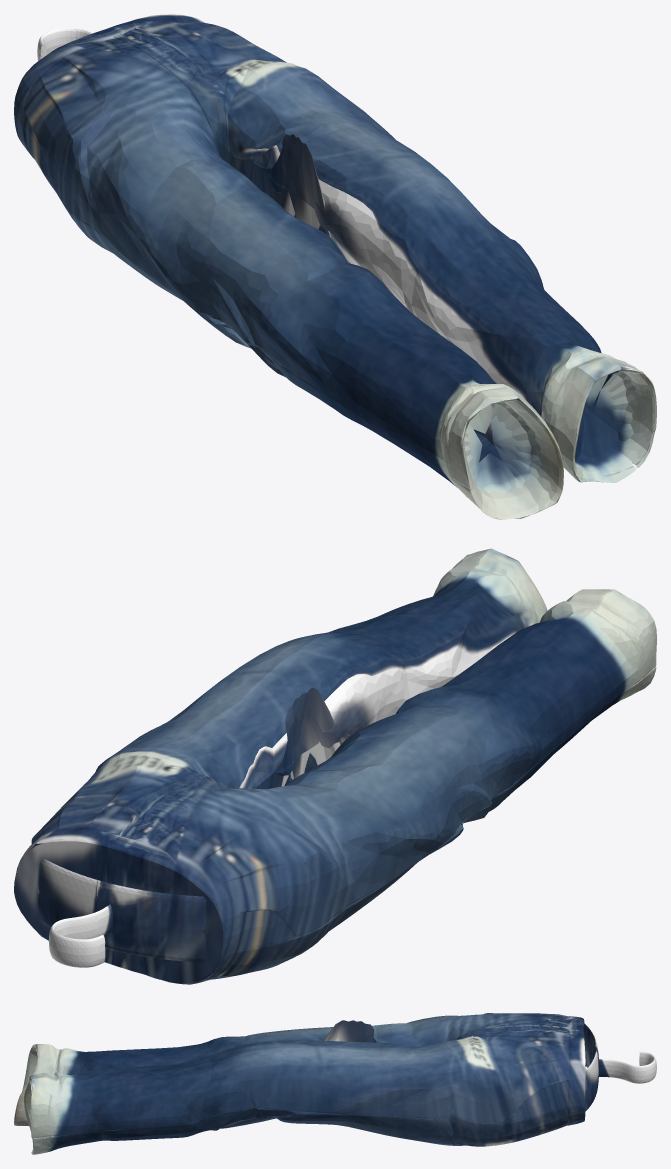
The model's file is trousers.obj.
The picture shows the model from 3 angles, top to bottom: view 1: azimuth 30°, elevation 25°; view 2: azimuth 150°, elevation 25°; view 3: azimuth 270°, elevation 25°; orthographic projection. The views are drawn at different scales.
Parts seen in each view (by area): view 1: Object60; view 2: Object60; view 3: Object60.
Part boxes in pixels (box(x1,y1,x2,y2)): Object60: box(14, 14, 656, 519); Object60: box(14, 548, 656, 984); Object60: box(14, 1013, 656, 1154).
Size of the model in its own units: 3.32 by 2.2 by 11.24.
